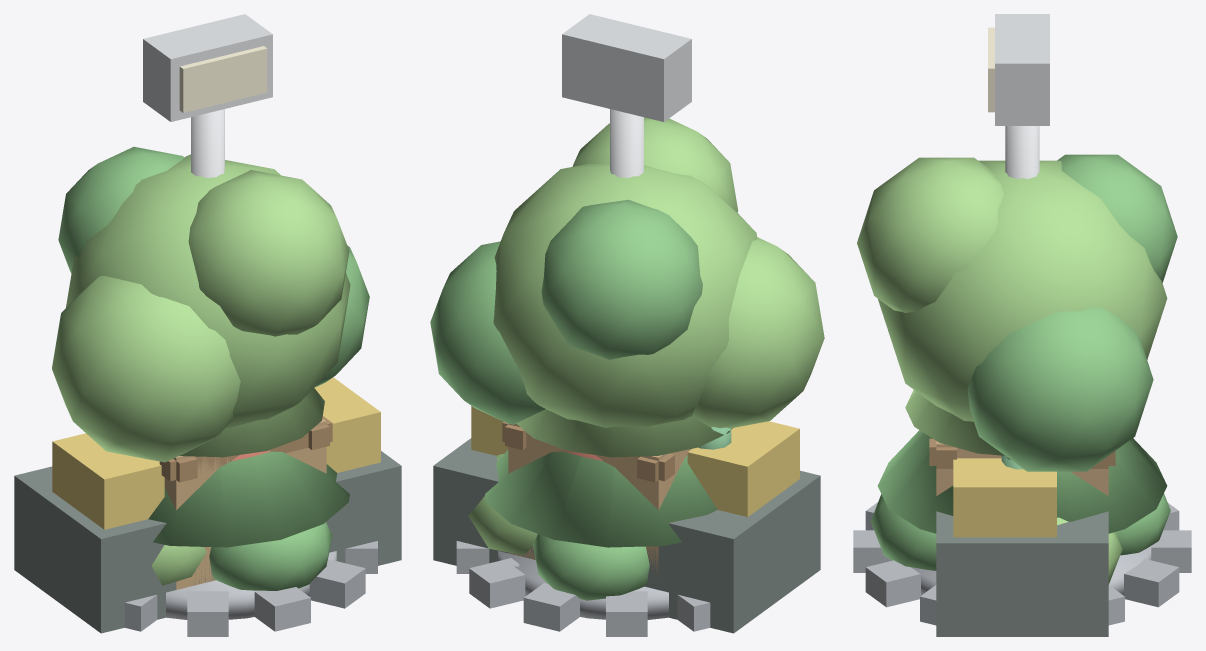
Rendered from PP_Props.fbx.
3 renders of one model, left to right at view 1: azimuth 30°, elevation 25°; view 2: azimuth 150°, elevation 25°; view 3: azimuth 270°, elevation 25°, orthographic.
Parts seen in each view (by area): view 1: prop_tree_round, prop_seat, prop_pine, prop_lamp, prop_gear, prop_bush, prop_crate; view 2: prop_tree_round, prop_seat, prop_pine, prop_lamp, prop_gear, prop_bush, prop_crate; view 3: prop_tree_round, prop_seat, prop_pine, prop_gear, prop_lamp, prop_bush, prop_crate.
Part boxes in pixels (x1,y1,x2,y2): prop_tree_round: [52, 146, 369, 462]; prop_seat: [14, 377, 401, 633]; prop_pine: [148, 388, 349, 547]; prop_lamp: [143, 14, 272, 177]; prop_gear: [124, 541, 377, 636]; prop_bush: [151, 522, 332, 590]; prop_crate: [159, 416, 332, 589]; prop_tree_round: [430, 117, 824, 428]; prop_seat: [433, 406, 820, 633]; prop_pine: [485, 409, 732, 547]; prop_lamp: [562, 14, 691, 177]; prop_gear: [456, 541, 710, 636]; prop_bush: [468, 454, 649, 600]; prop_crate: [502, 421, 691, 577]; prop_tree_round: [857, 154, 1177, 471]; prop_seat: [936, 458, 1108, 636]; prop_pine: [877, 390, 1167, 533]; prop_gear: [853, 502, 1191, 625]; prop_lamp: [988, 14, 1049, 178]; prop_bush: [870, 494, 1170, 584]; prop_crate: [929, 438, 1115, 495].
Bounding box in the file's own units: 1.08 × 1.72 × 0.98.
